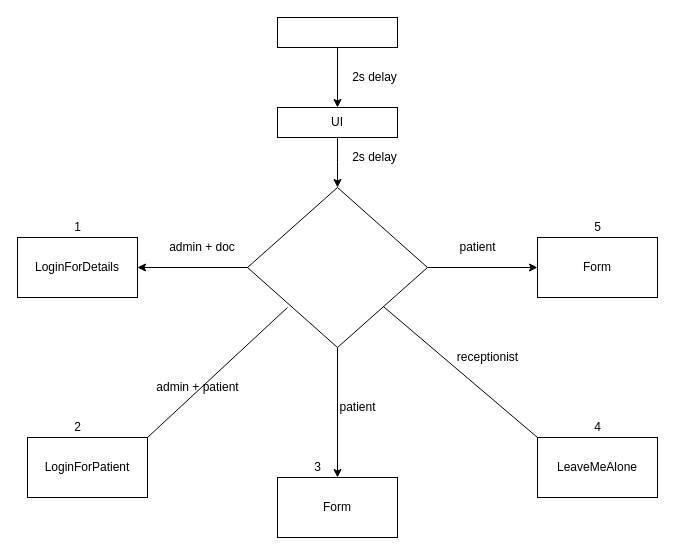
The diagram is 675 pixels wide and 555 high, and some of its shapes have lost their labels. The shapes that lost their labels are listed below. From the top down, each one's centre as x and y in pixels, then its label:
the point at 337,32: LoadingScreen
the point at 337,267: 1. doc detail 2.pat detail 3.make appt. 4.confirm appt. 5.intelligent doc
